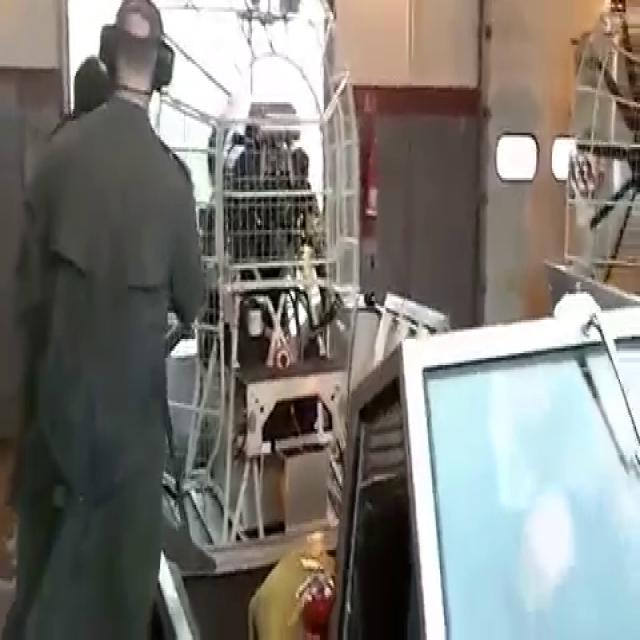earmuff: (150, 38, 176, 92), (96, 21, 117, 72)
